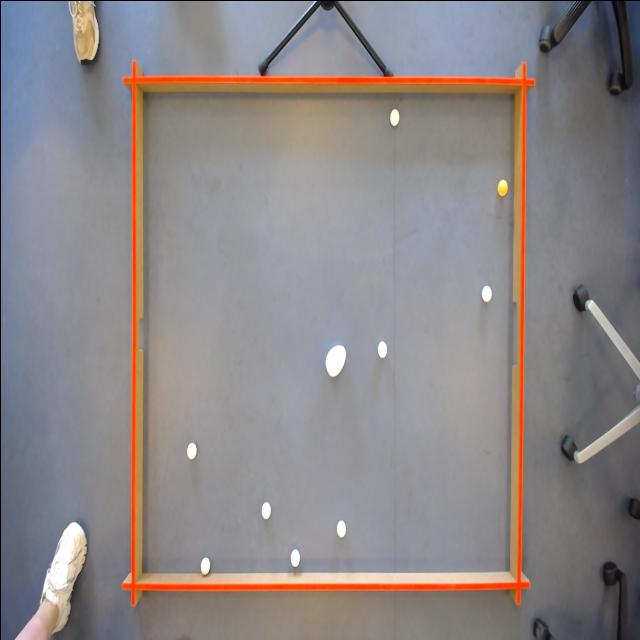egg: (324, 340, 346, 380)
orange_ball: (495, 174, 507, 198)
white_ball: (287, 546, 301, 570), (199, 554, 211, 576), (388, 106, 400, 128), (480, 282, 492, 304), (184, 440, 196, 460), (375, 340, 387, 360), (259, 499, 271, 519), (335, 519, 346, 540)
